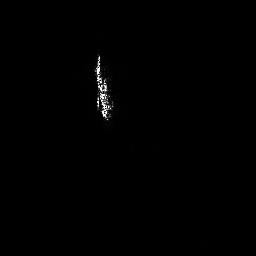ship: (94, 52, 115, 121)
